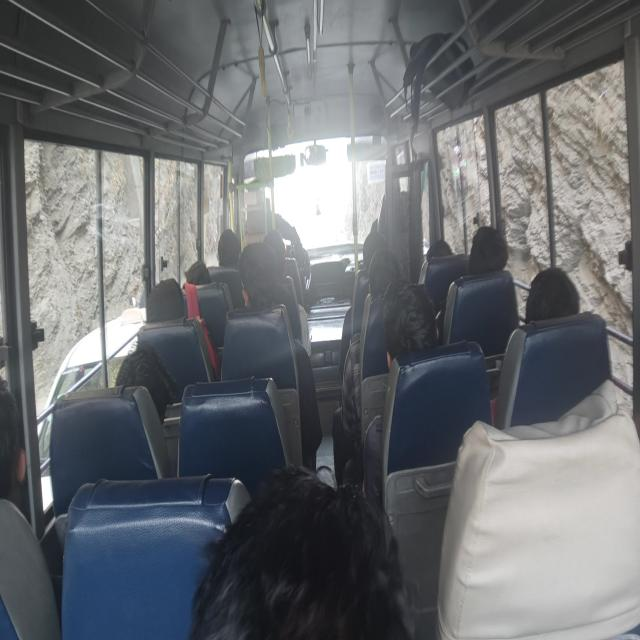person: (189, 464, 415, 638), (238, 241, 322, 468), (362, 278, 439, 501), (332, 248, 404, 483), (114, 342, 178, 424), (382, 278, 439, 370), (0, 382, 27, 506), (524, 265, 580, 323), (468, 224, 508, 274), (216, 228, 241, 269), (185, 259, 212, 286)
